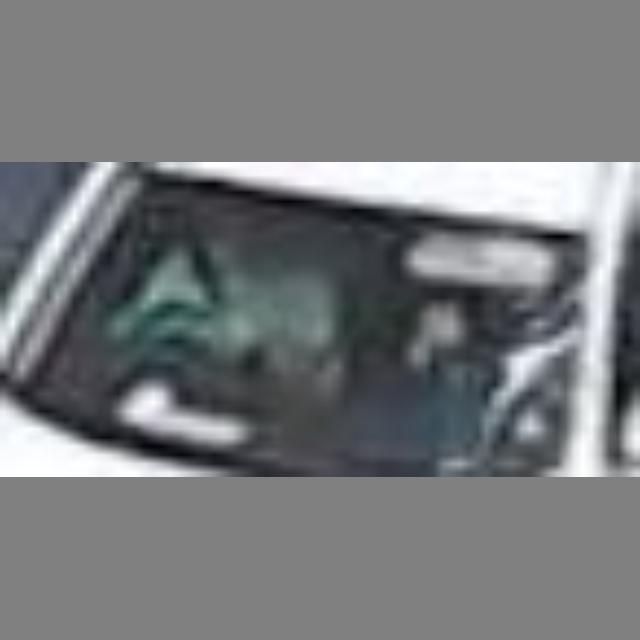pakai: (123, 215, 359, 399)
